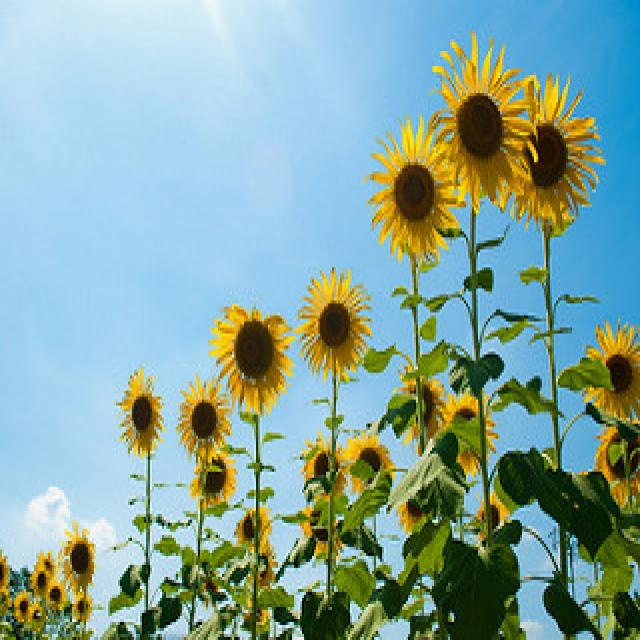sunflower: (437, 40, 518, 207), (513, 73, 597, 231), (369, 130, 452, 268), (214, 302, 291, 407), (298, 273, 372, 379), (582, 325, 640, 425), (112, 369, 168, 454), (171, 384, 232, 456), (440, 391, 494, 462), (591, 426, 640, 494), (66, 535, 99, 597), (192, 452, 232, 502)
